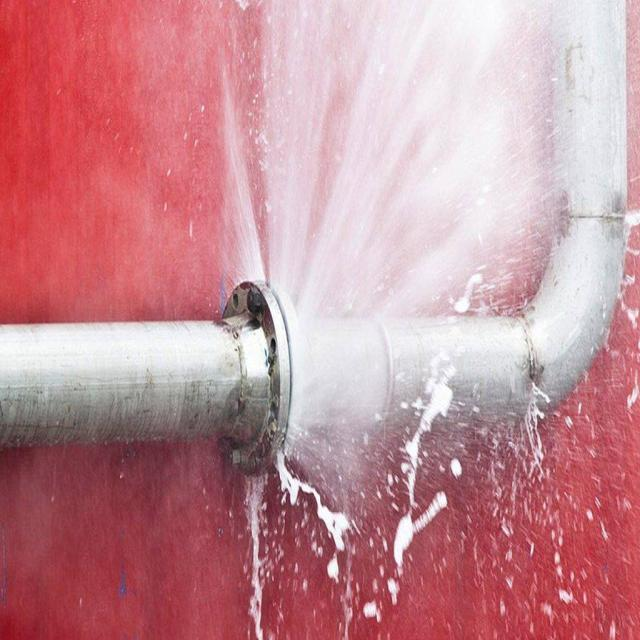leak: (217, 0, 640, 640)
